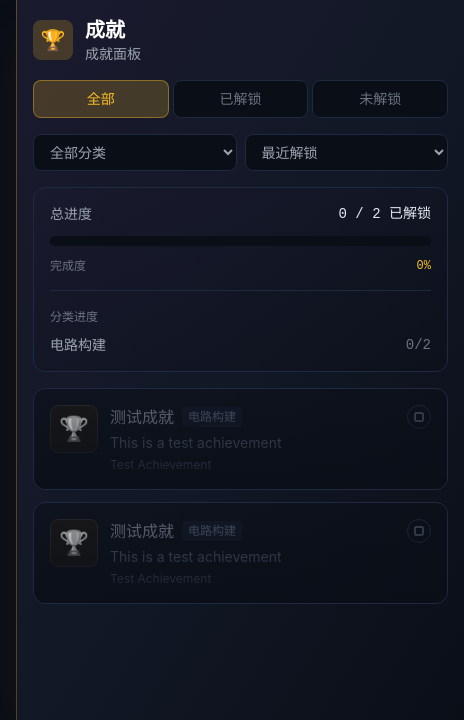
Scenario: AchievementPanel Component › Empty States › displays empty state when no unlocked achievements exist
Click the button with test id "achievement-tab-unlocked" at (241, 99), box [173,80,308,118]
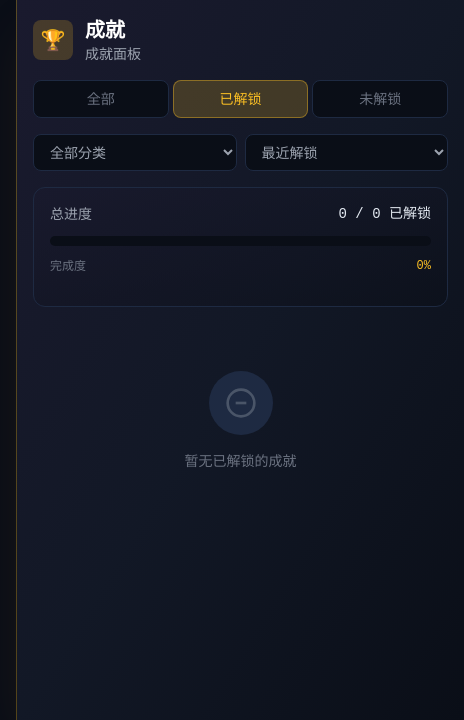
Expected: the element with test id "achievement-empty-state" is shown, [184,371,296,469]
Expected: the text "暂无已解锁的成就" is shown, [184,451,296,471]
